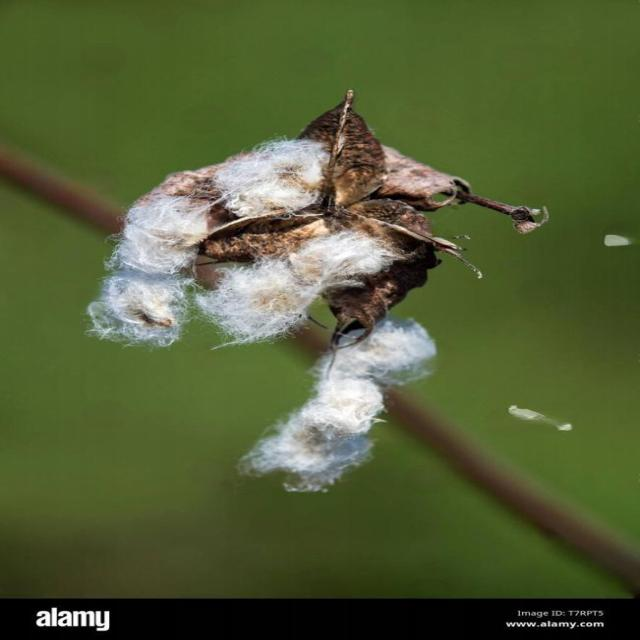Late_blight: (78, 81, 550, 509)
